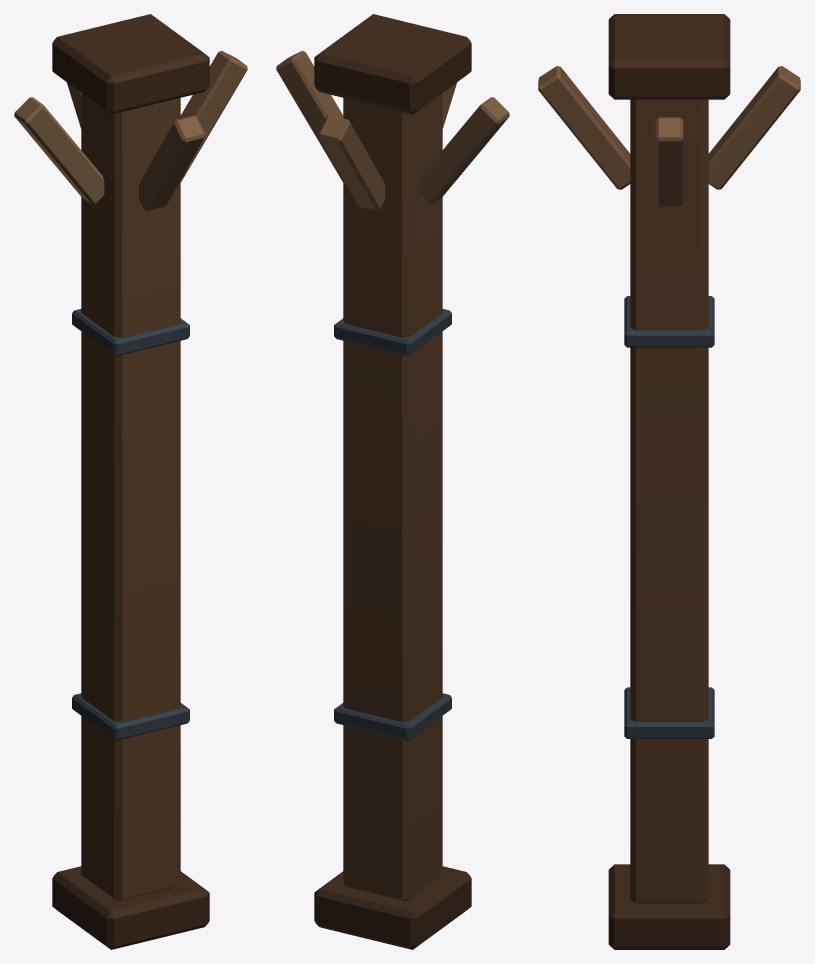
The model's file is piece_woodpost.glb.
3 views of the same model, side by side, from view 1: azimuth 30°, elevation 25°; view 2: azimuth 150°, elevation 25°; view 3: azimuth 270°, elevation 25° (orthographic).
Visible parts, largest first — view 1: Base; view 2: Base; view 3: Base.
Boxes of the visible parts, box(x1,y1,x2,y2) form: Base: box(14, 14, 247, 949); Base: box(276, 14, 509, 949); Base: box(538, 14, 800, 949).
Size of the model in its own units: 1.34 by 5 by 1.34.
